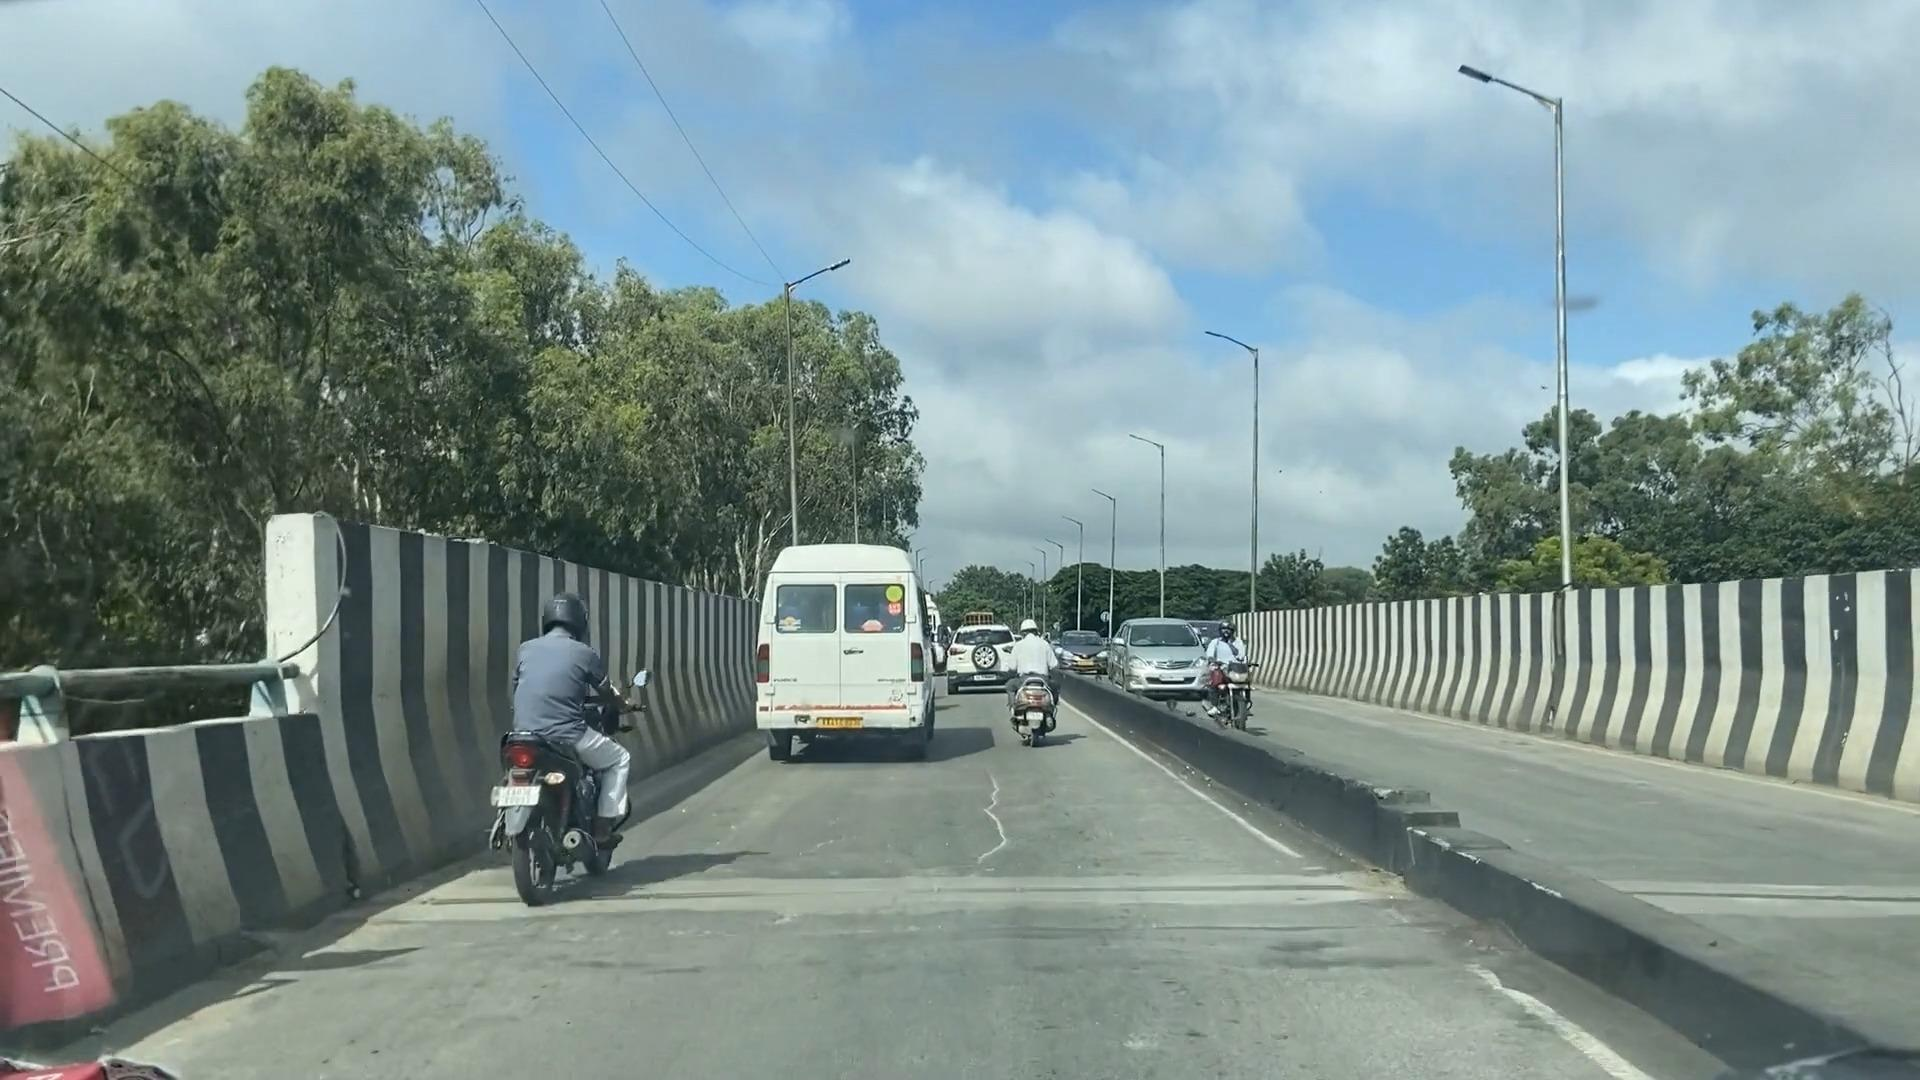HMV: (742, 547, 931, 766)
LMV: (502, 597, 629, 903), (1007, 621, 1054, 749)
RoadDamages: (971, 758, 1006, 866)
SpeedBump: (679, 873, 1407, 914)
